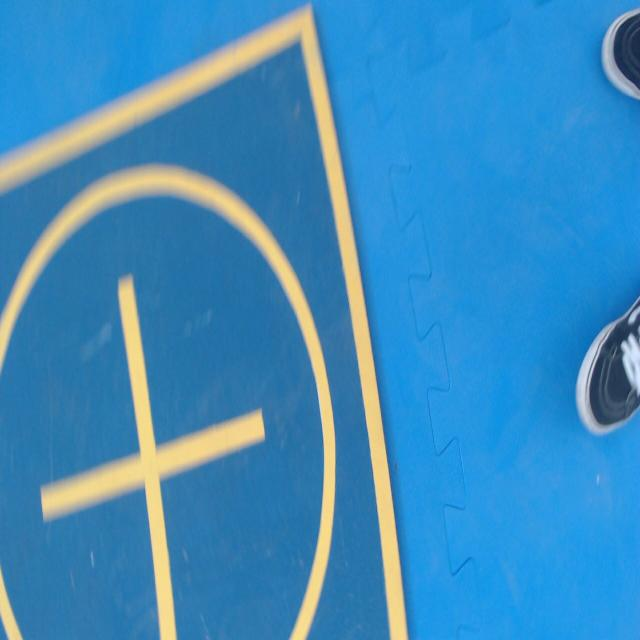base_pouso: (0, 3, 410, 639)
